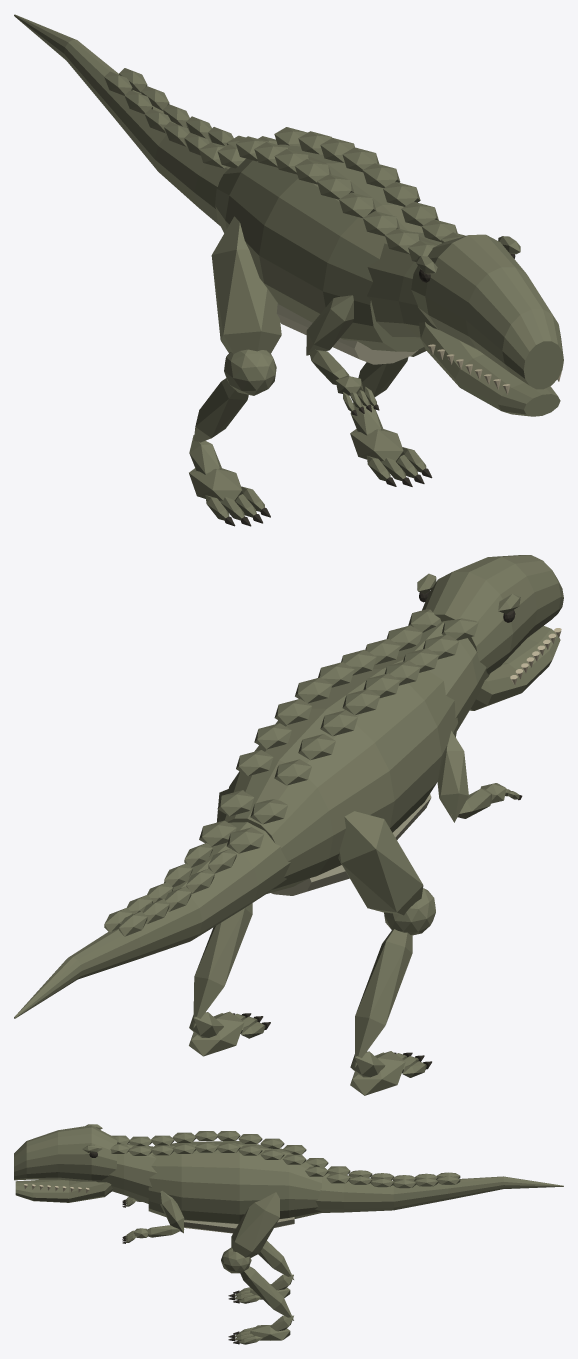
3 renders of one model, top to bottom at view 1: azimuth 30°, elevation 25°; view 2: azimuth 150°, elevation 25°; view 3: azimuth 270°, elevation 25°, orthographic. The views are drawn at different scales.
Visible parts, largest first — view 1: surface_grey_olive, surface_muted_underside, surface_eyes_claws; view 2: surface_grey_olive, surface_muted_underside; view 3: surface_grey_olive, surface_muted_underside.
Boxes of the visible parts, x1,y1,x2,y2 form: surface_grey_olive: (14,14,563,520); surface_muted_underside: (276,303,417,364); surface_eyes_claws: (225,254,515,526); surface_grey_olive: (14,555,563,1095); surface_muted_underside: (271,794,431,895); surface_grey_olive: (14,1124,563,1344); surface_muted_underside: (184,1217,294,1233).
Size of the model in its own units: 0.2275 by 0.387 by 1.
